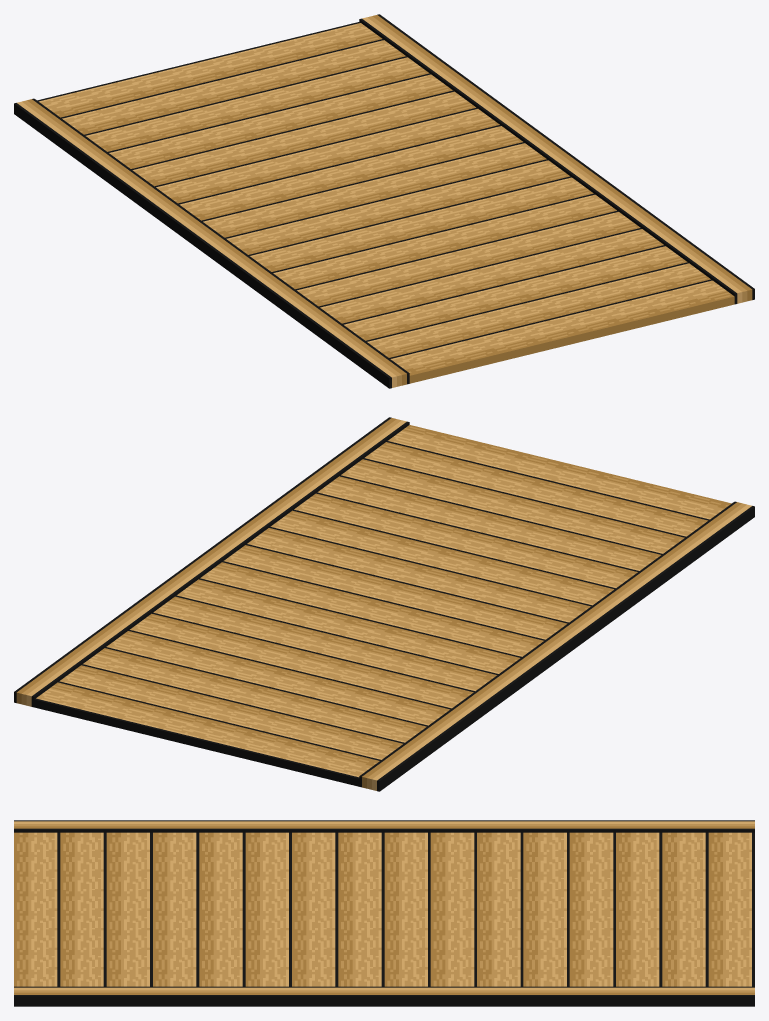
The model's file is Boardwalk16x.obj.
The picture shows the model from 3 angles, top to bottom: view 1: azimuth 30°, elevation 25°; view 2: azimuth 150°, elevation 25°; view 3: azimuth 270°, elevation 25°; orthographic projection.
Size of the model in its own units: 14.4 by 0.4 by 25.6.
1 material, 1 textured.
